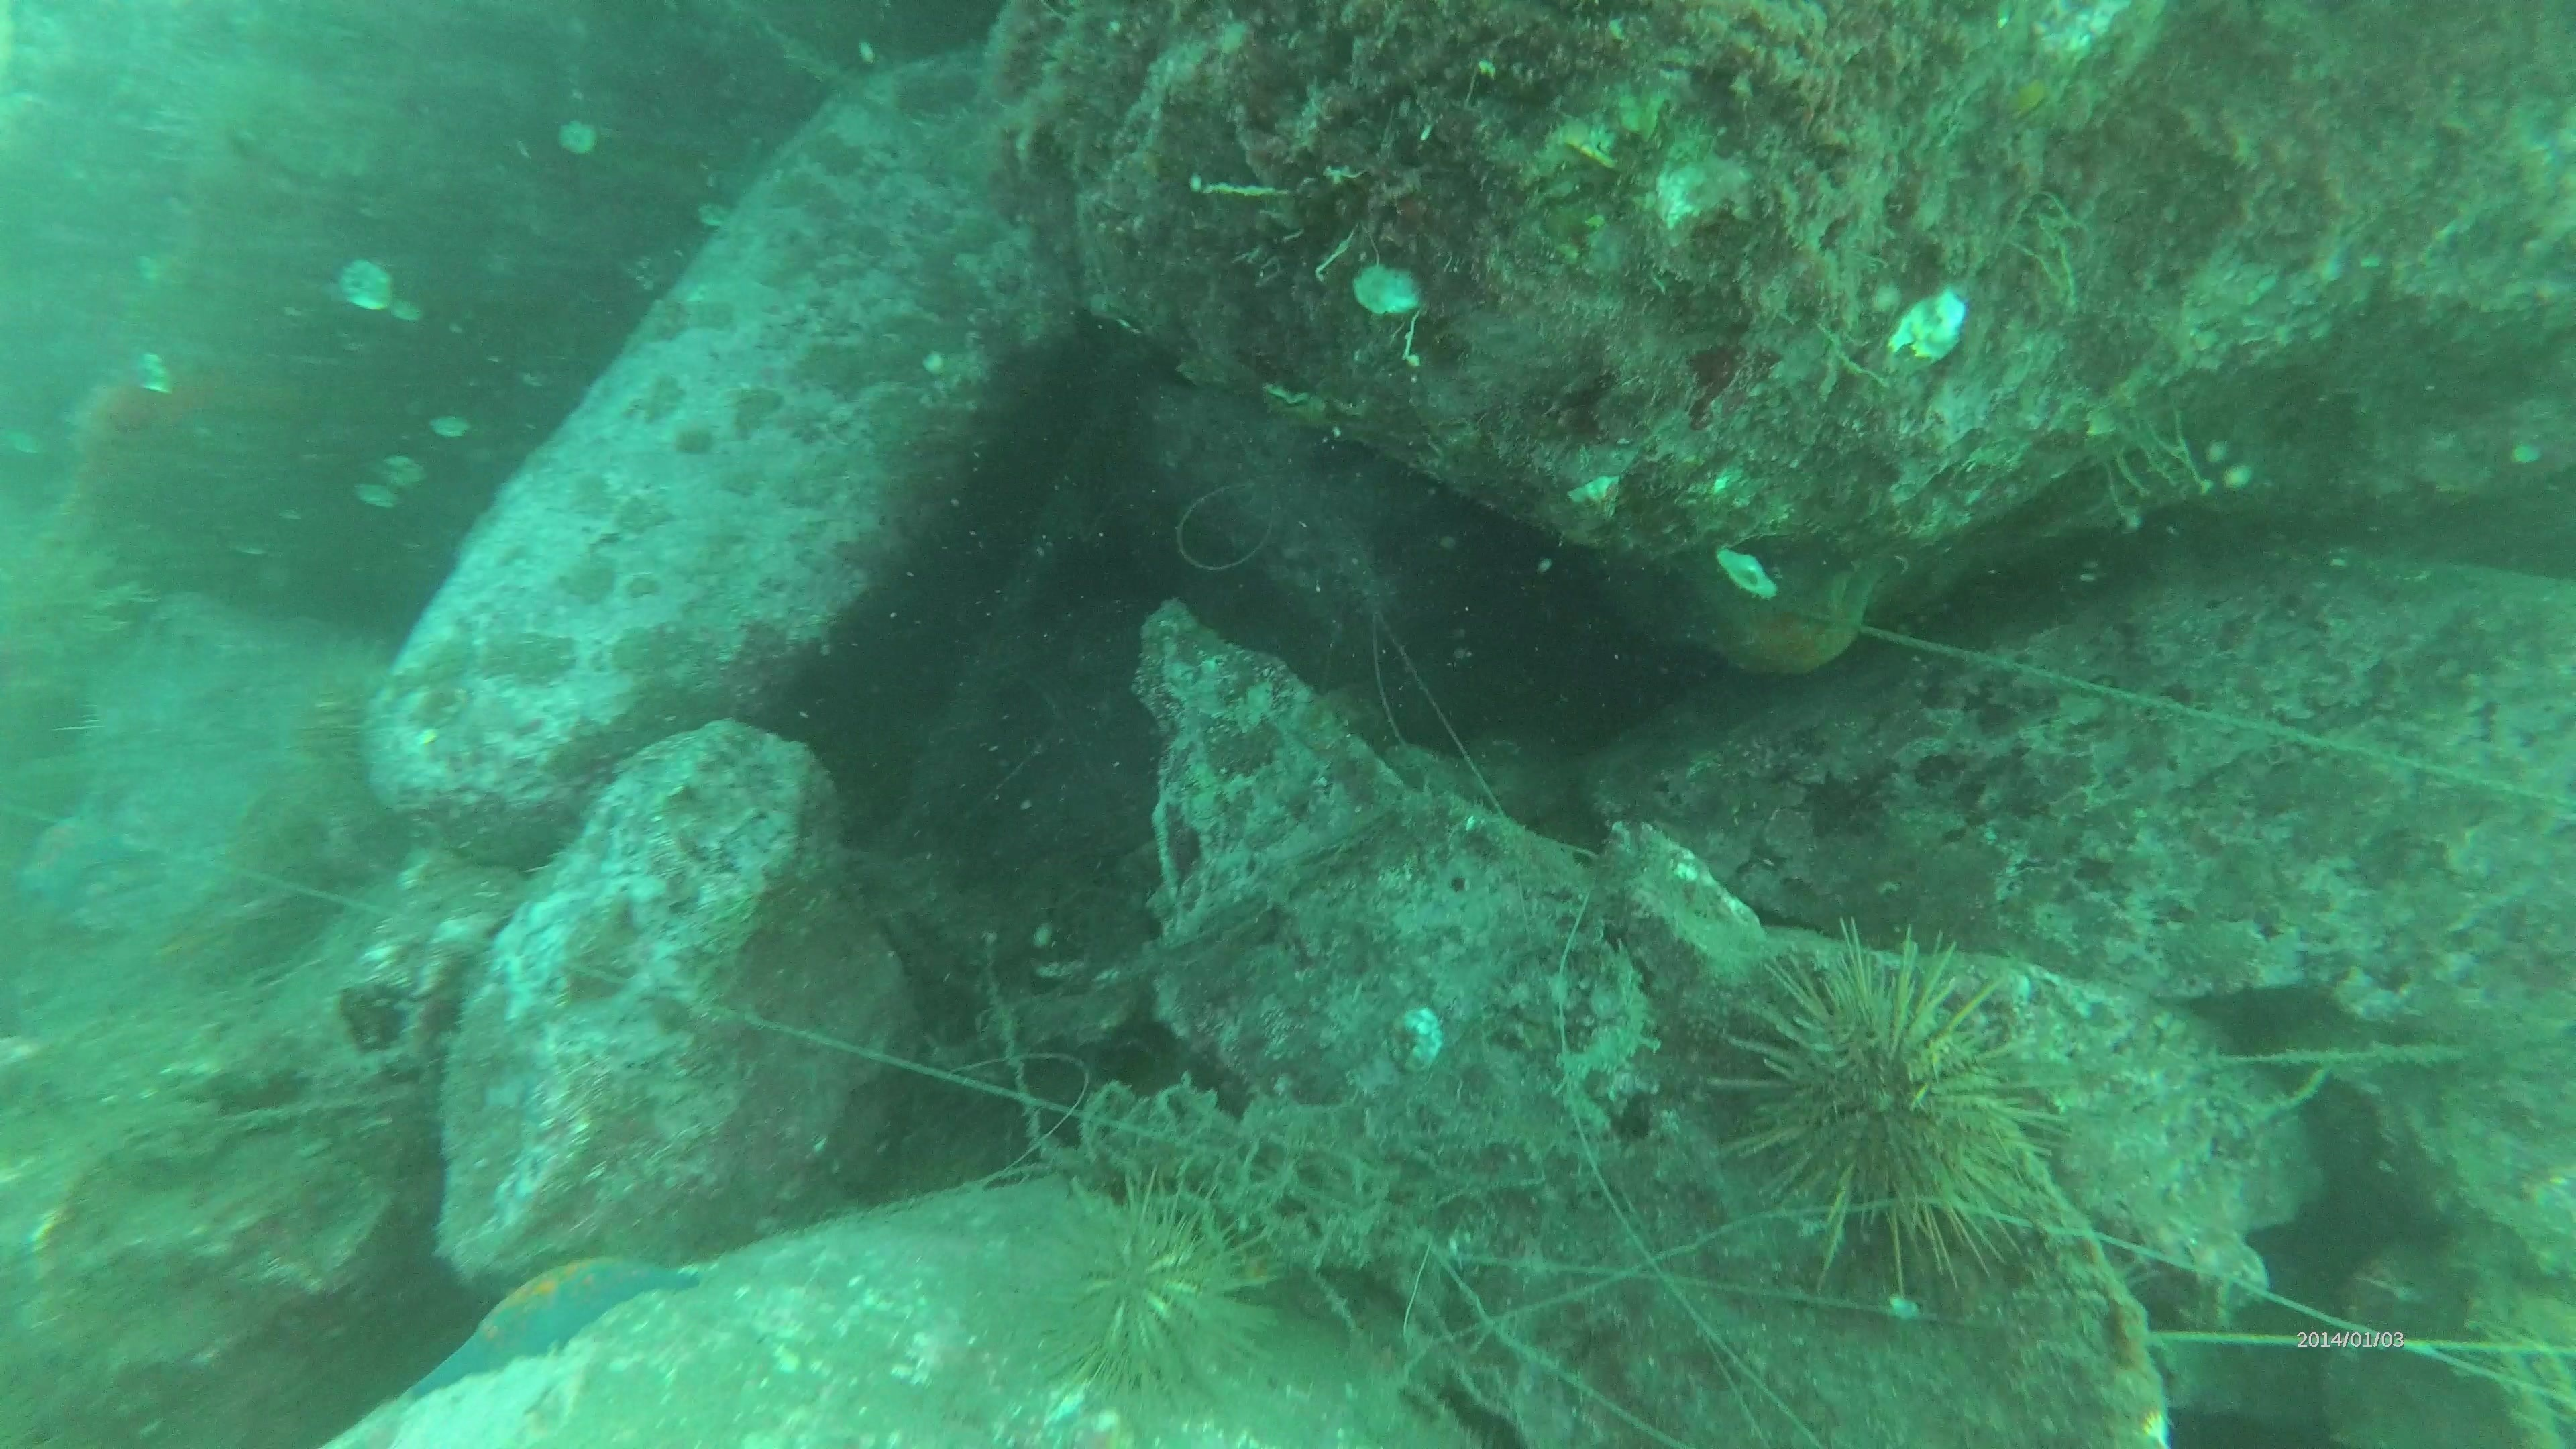echinus: (1697, 927, 2068, 1311), (1014, 1171, 1283, 1407)
starfish: (396, 1246, 702, 1401), (11, 786, 147, 918)
